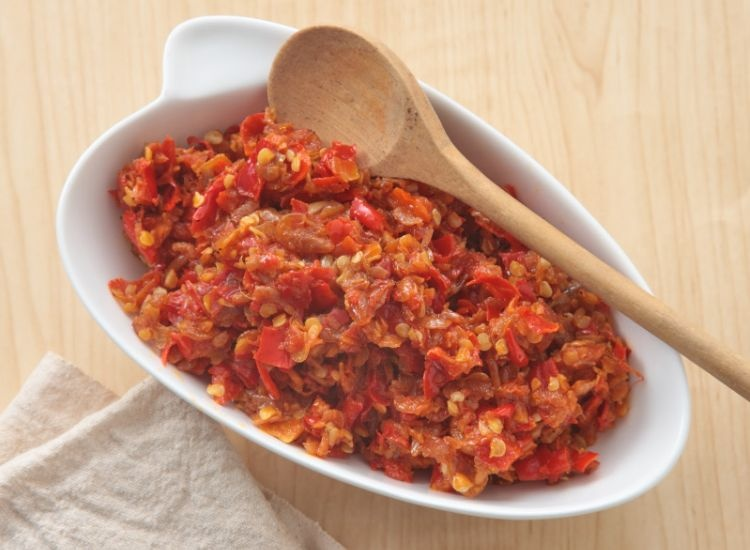sambal: (107, 110, 632, 498)
